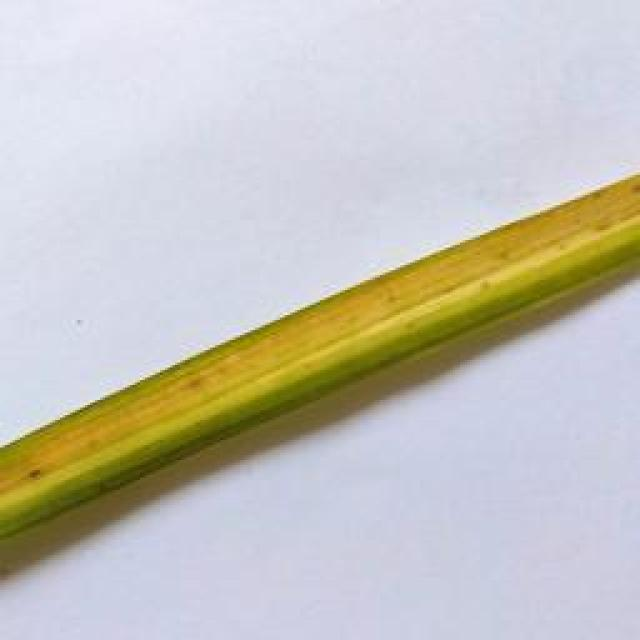Brown_Spot: (382, 287, 405, 312), (472, 276, 498, 296), (183, 374, 213, 388), (19, 469, 47, 480), (494, 250, 509, 264)
